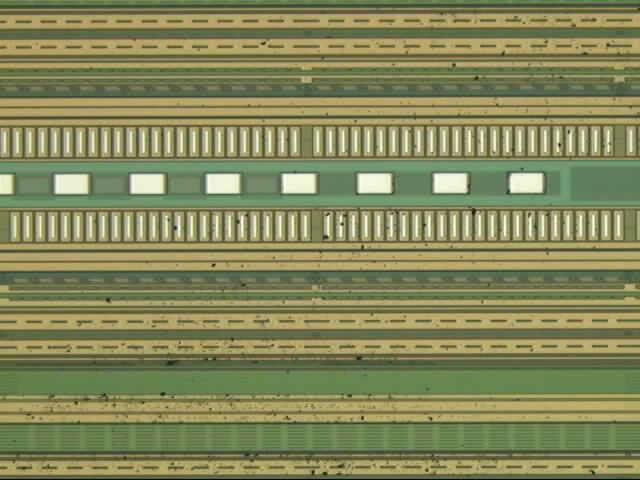PO CONTAMINATION: (5, 8, 640, 480)
